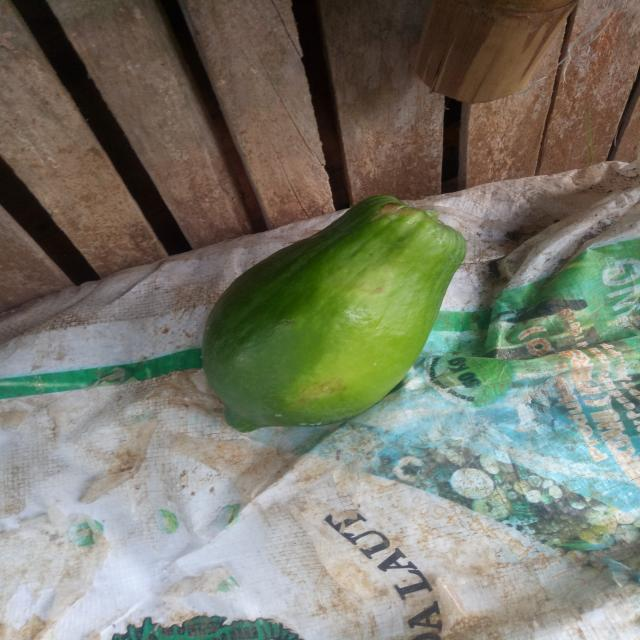Pepaya unrippen: (198, 193, 468, 436)
